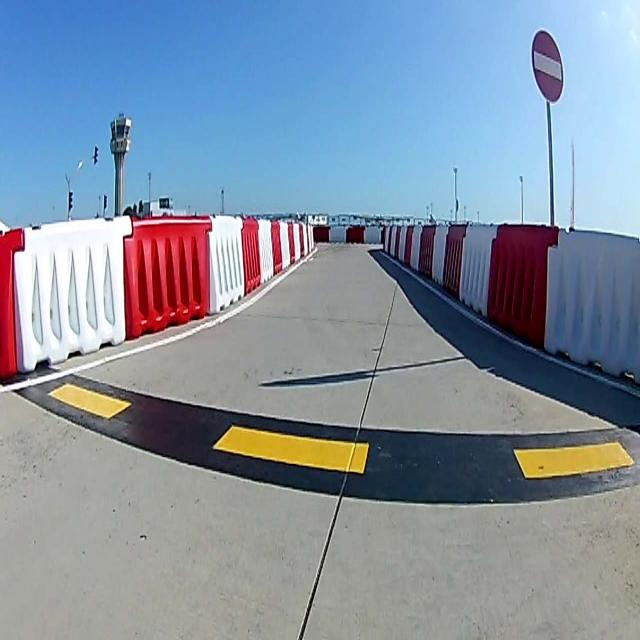girisyok: (531, 29, 563, 100)
